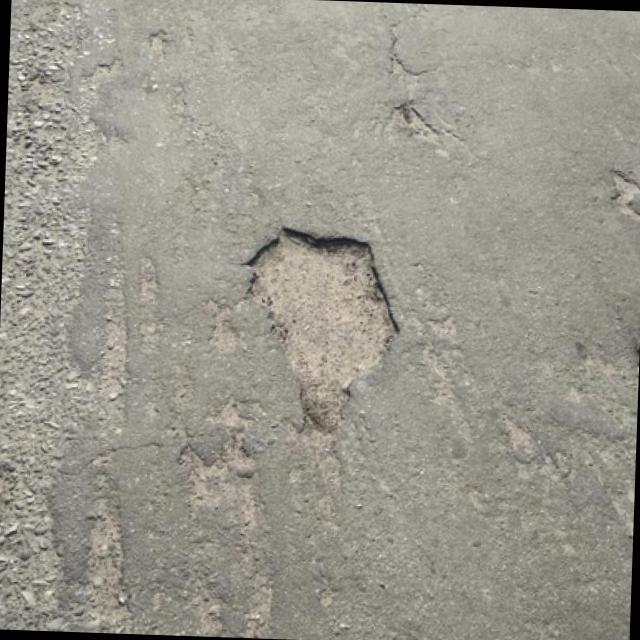Pothole: (251, 229, 396, 431)
